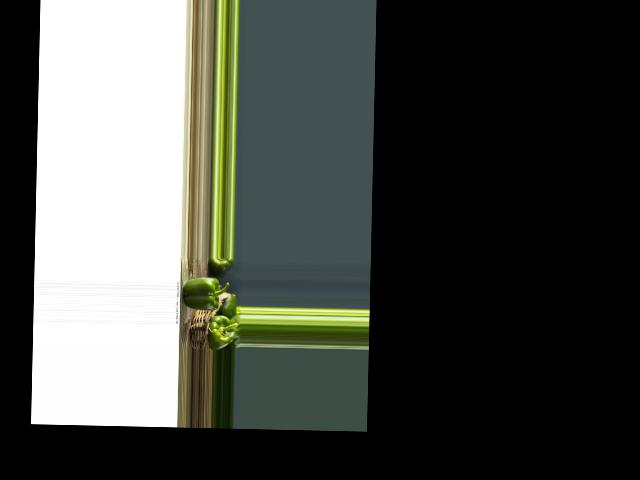bell_pepper: (212, 257, 233, 271)
